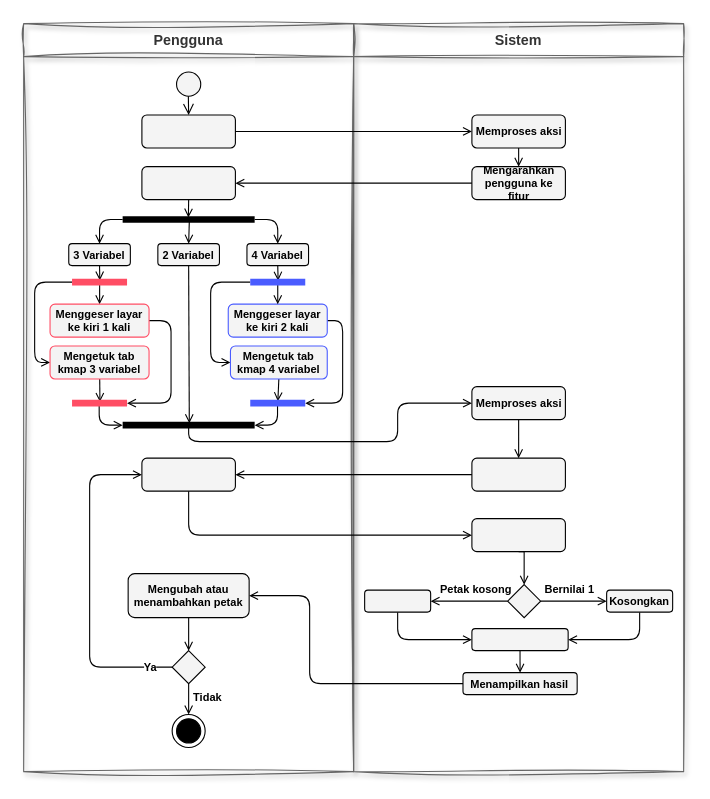
Some shapes in this 710 by 799 pixel diagram are drawn without their labels. The shapes that lost their labels are listed below. From the top down, each one's centre as x and y in pixels, then its label:
point 188,131: Tekan fitur Karnaugh Map
point 188,183: Memilih Variabel KMAP
point 188,474: Mengetuk petak kmap
point 518,474: Menempelkan kmap ke layar
point 518,535: Mengecek nilai pada petak
point 397,600: Ubah ke 1
point 519,639: Petak di-update
